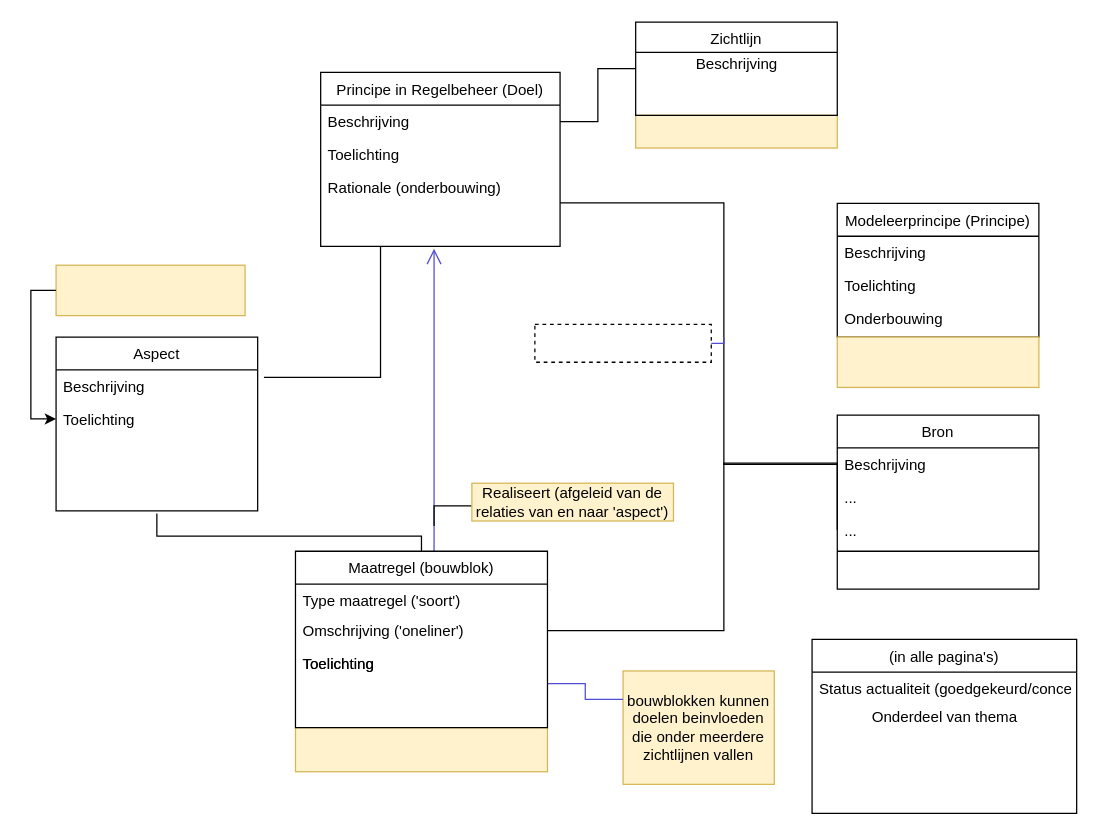
The diagram is 1119 pixels wide and 835 high, and some of its shapes have lost their labels. The centre of each missing label's shape, as x and y in pixels:
'Toelichting' waarschijnlijk niet gebruikt?: pixel 150 290
Van Wet naar Loket & Feedback op wet: pixel 735 131
Vergelijk 'maatregel' of 'norm' in Beveiliging: pixel 420 749
Vindt grondslag in: pixel 622 342
wordt naar verwezen in aspecten?: pixel 937 361
